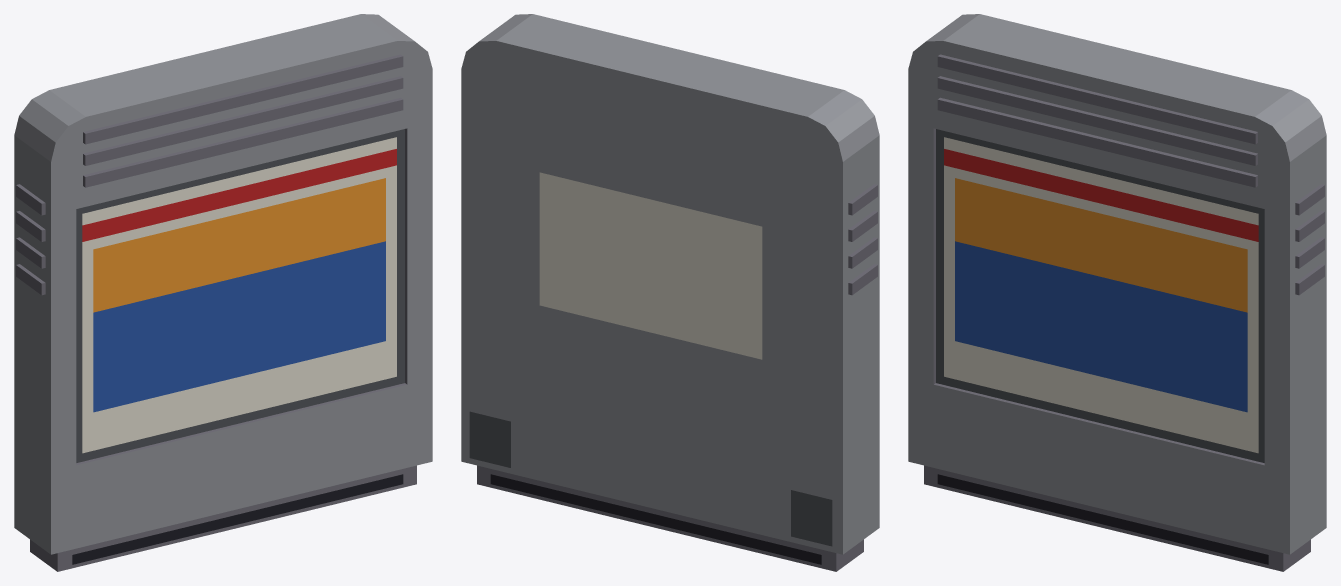
File: snes.obj
The picture shows the model from 3 angles, left to right: view 1: azimuth 30°, elevation 25°; view 2: azimuth 150°, elevation 25°; view 3: azimuth 330°, elevation 25°; orthographic projection.
Parts seen in each view (by area): view 1: snes; view 2: snes; view 3: snes.
Boxes of the visible parts, x1,y1,x2,y2 form: snes: (14,14,432,571); snes: (461,14,879,571); snes: (908,14,1326,571).
Bounding box in the file's own units: 12.24 × 13.6 × 2.2.
